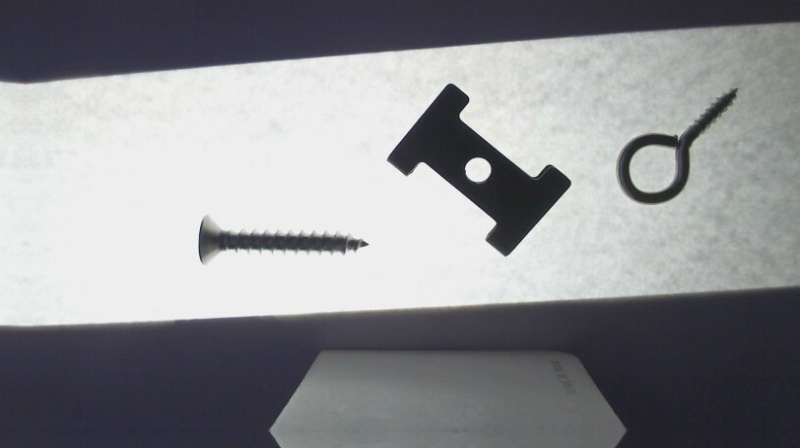O001: (614, 85, 738, 204)
O002: (387, 82, 573, 258)
S001: (196, 215, 372, 270)
